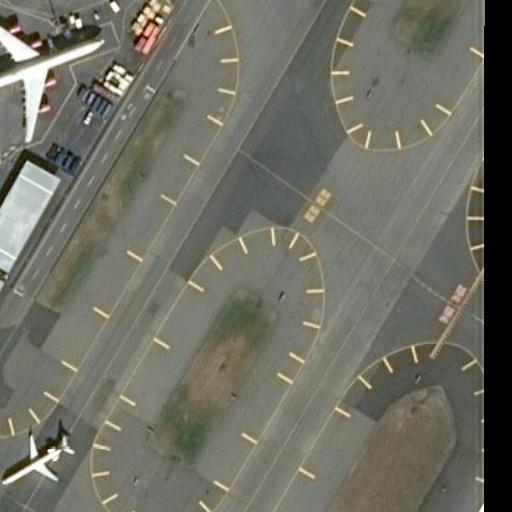Aircraft: (0, 0, 106, 142), (0, 422, 80, 495)
